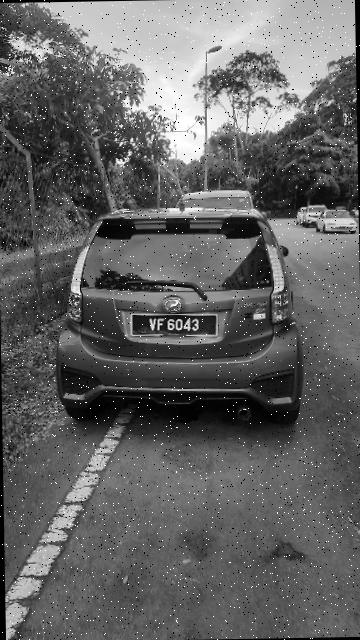License_Plate: (132, 310, 219, 341)
car: (44, 197, 331, 440)
